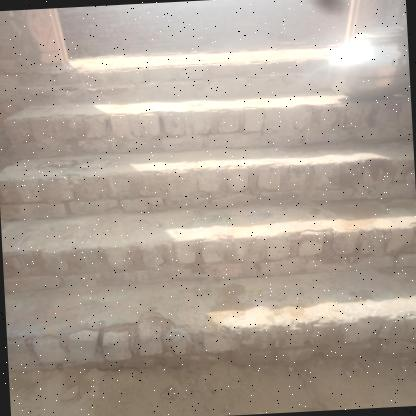stair: (0, 17, 416, 415)
